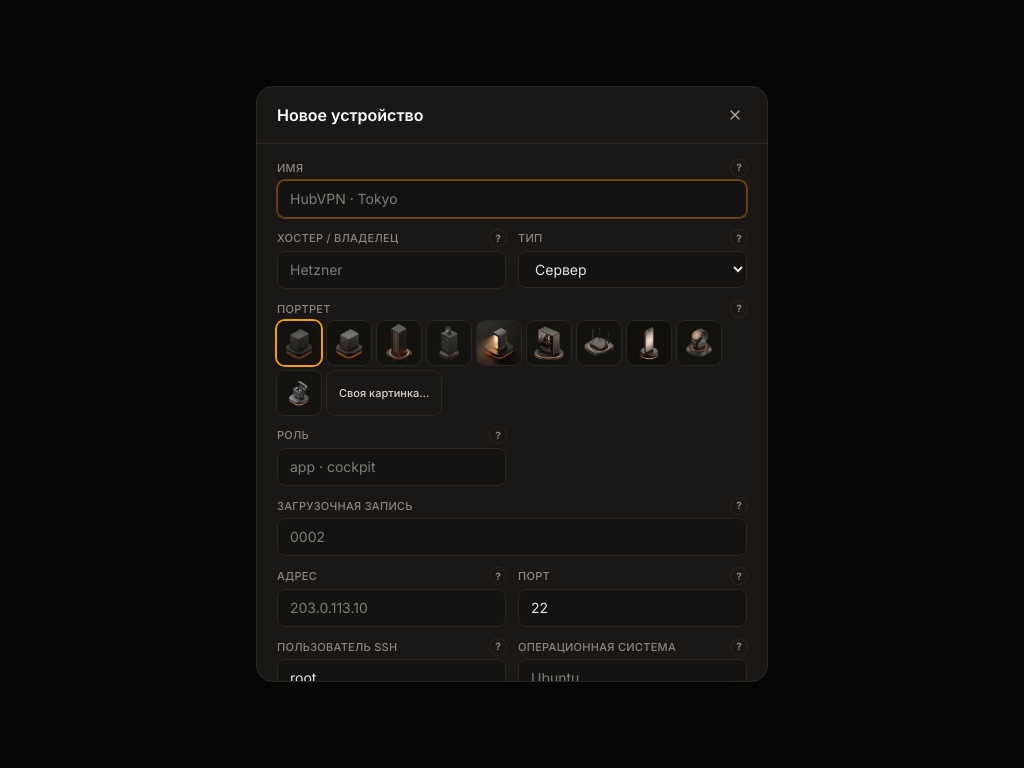
Test: форма устройства — кнопки-помощники › гео по IP заполняет страну, флаг и пустого хостера
In the field labelled "Адрес": coordinates (392, 608) [277,589,506,627], type "198.51.100.7"
(page scrolled)
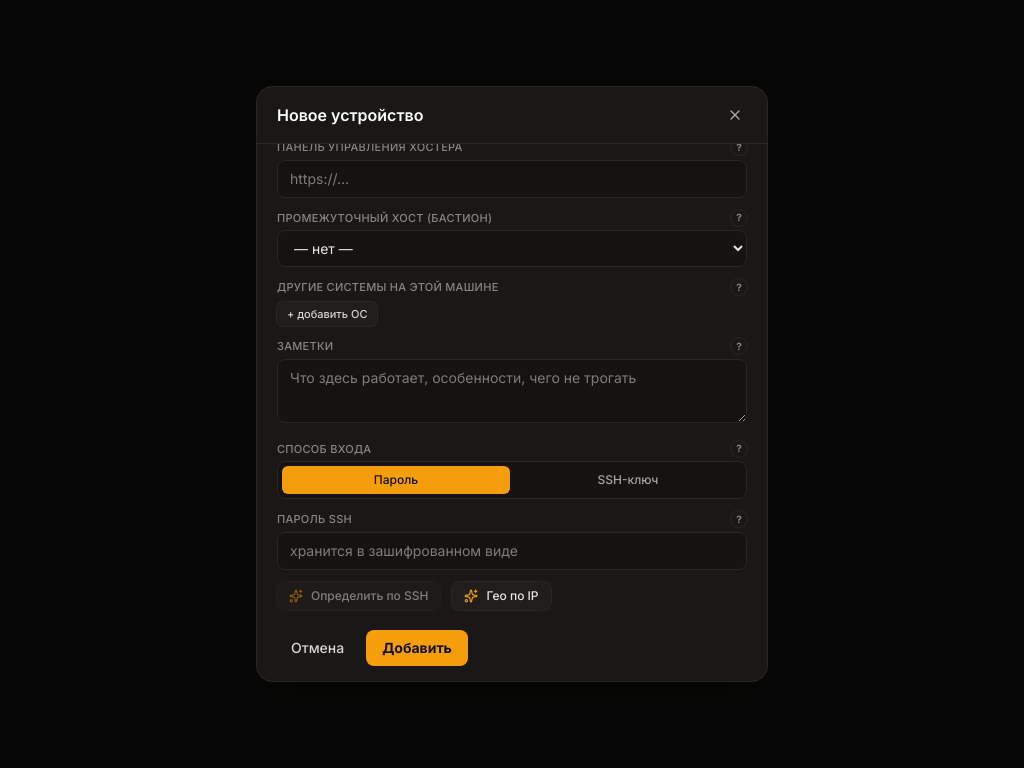
Click the button "Гео по IP": coordinates (502, 596) [452,582,551,610]
(page scrolled)
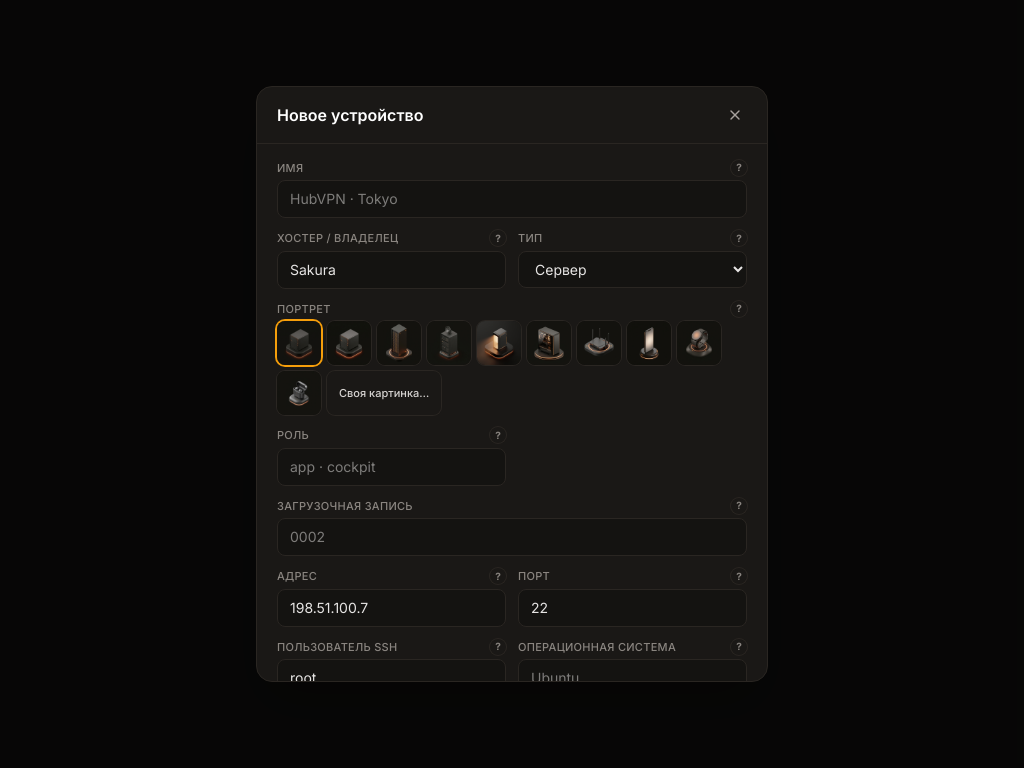
Expected: the field labelled "Хостер / владелец" holds "Sakura", [277,251,506,289]
